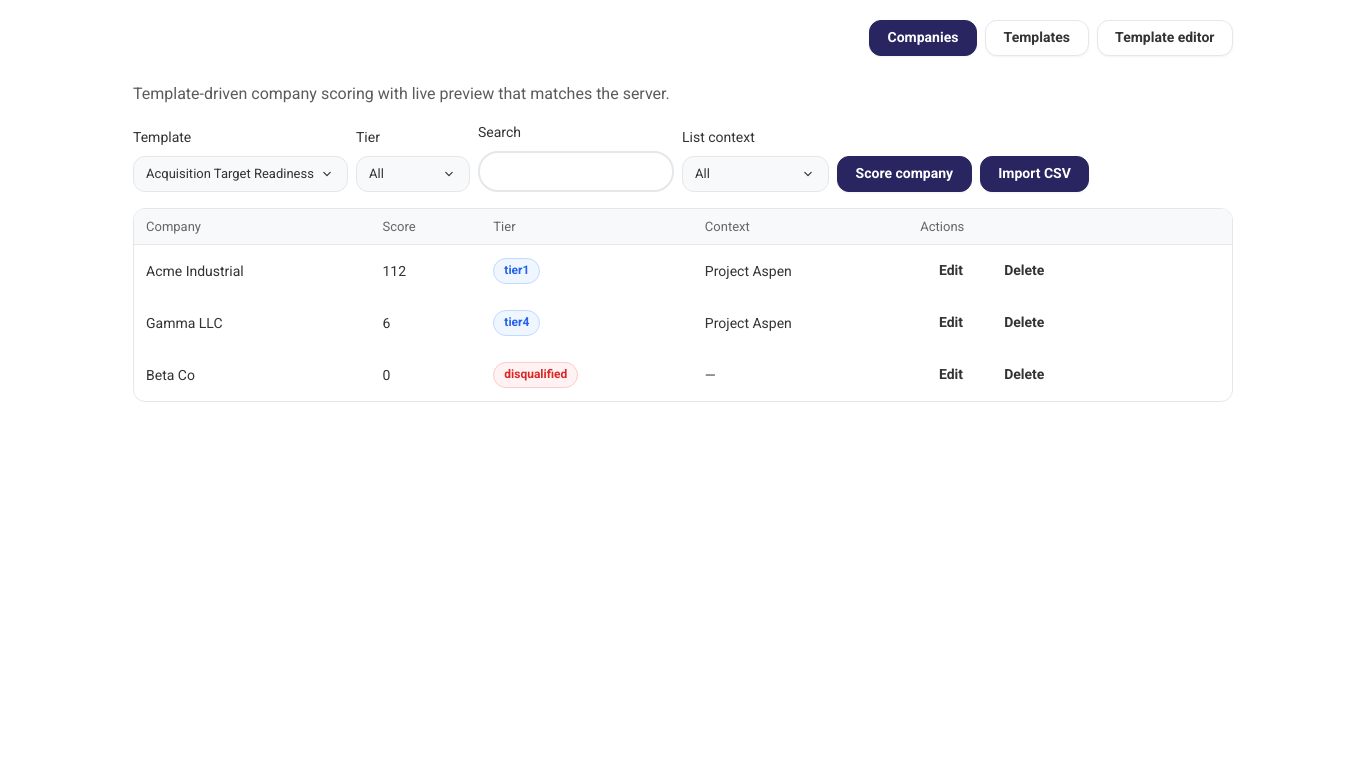
Scenario: BdScoringPage › generates a template draft into the editor
Click the tab with test id "bd-tab-templates" at (1037, 38), box [985, 20, 1088, 56]
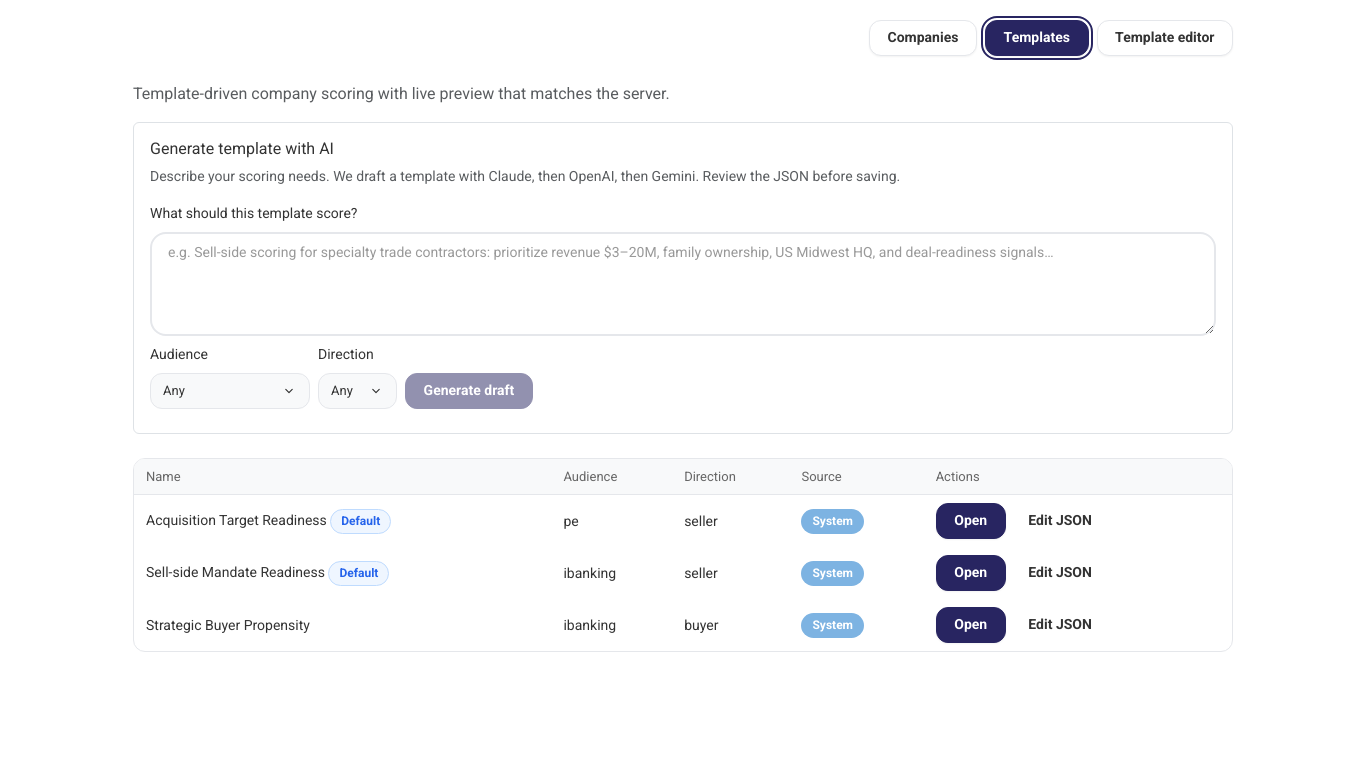
Click the text box with test id "bd-gen-brief" at (683, 284), box [150, 232, 1216, 336]
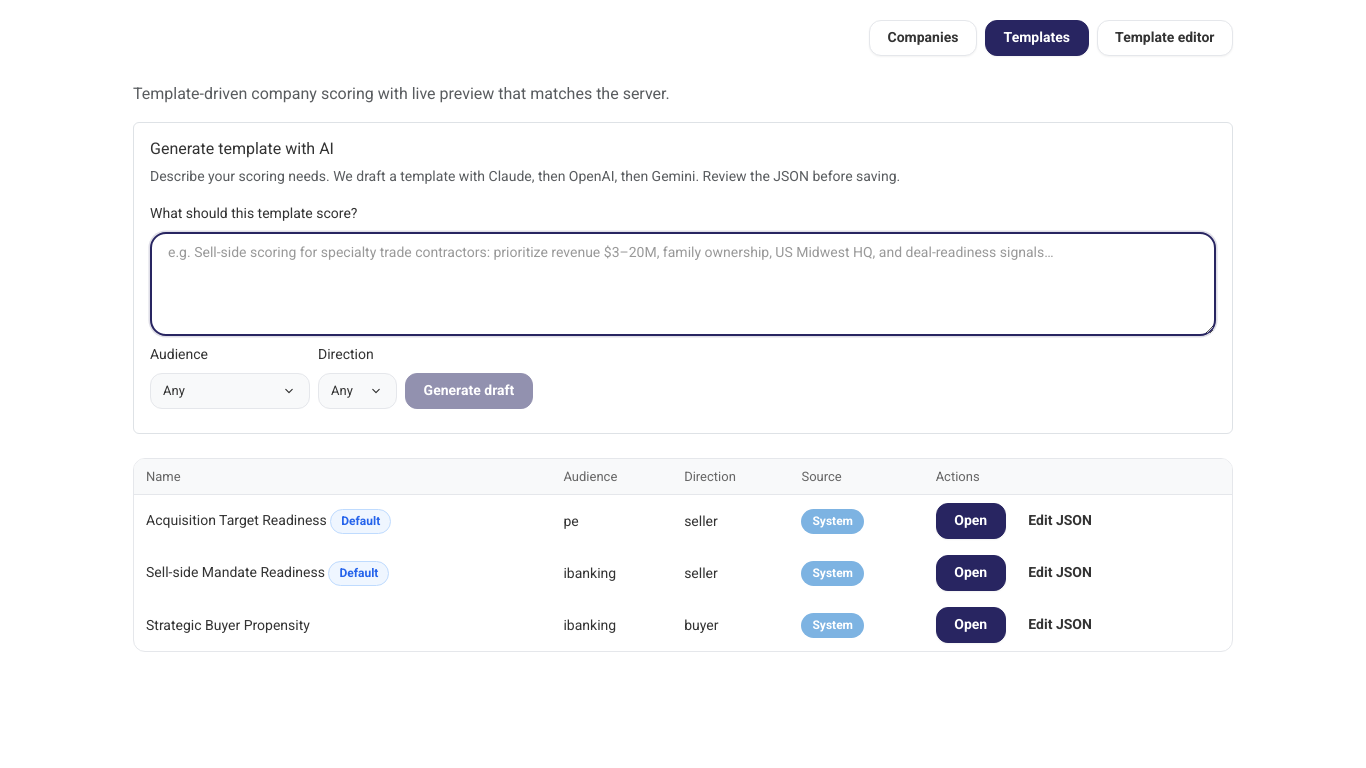
Type keys "Sell-side scoring for HVAC contractors with revenue, ownership, and geography criteria."
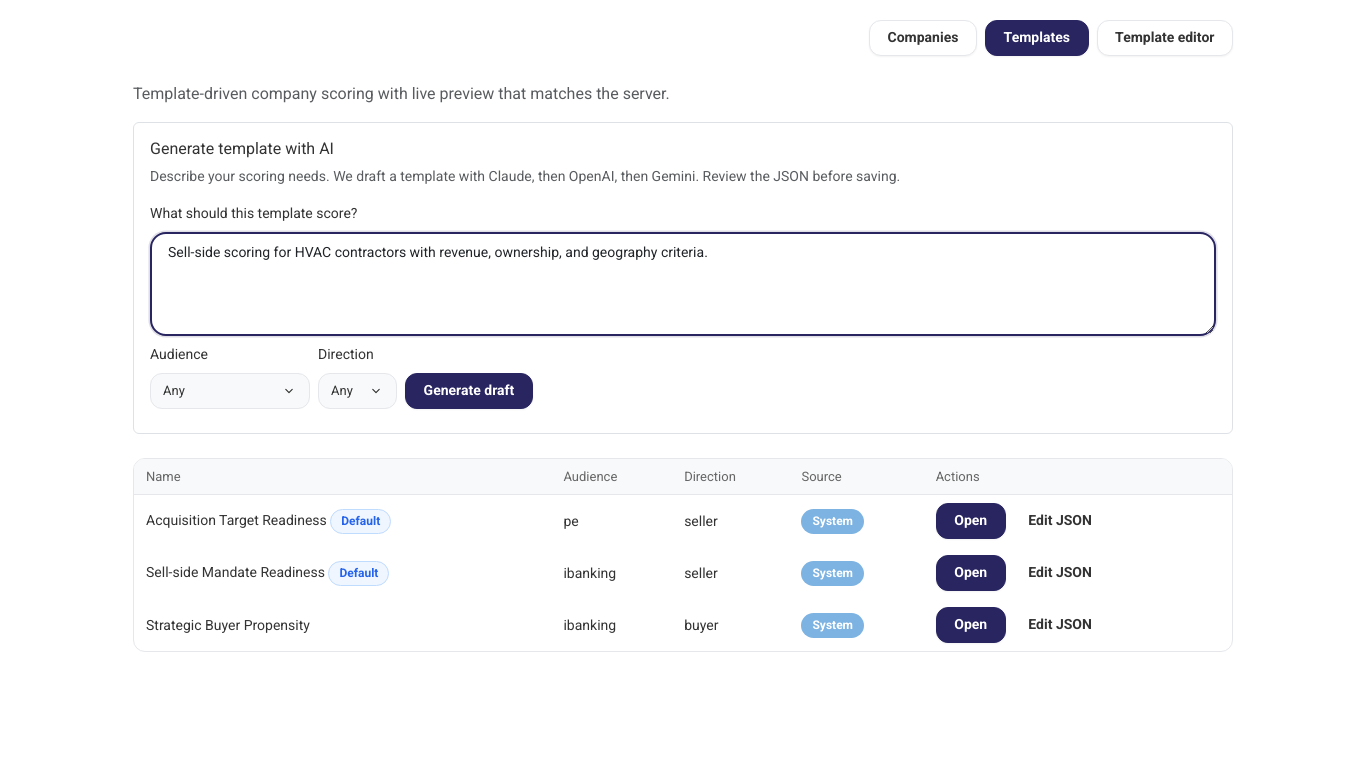
Click the button with test id "bd-gen-submit" at (469, 391), box [405, 373, 533, 409]
(page scrolled)
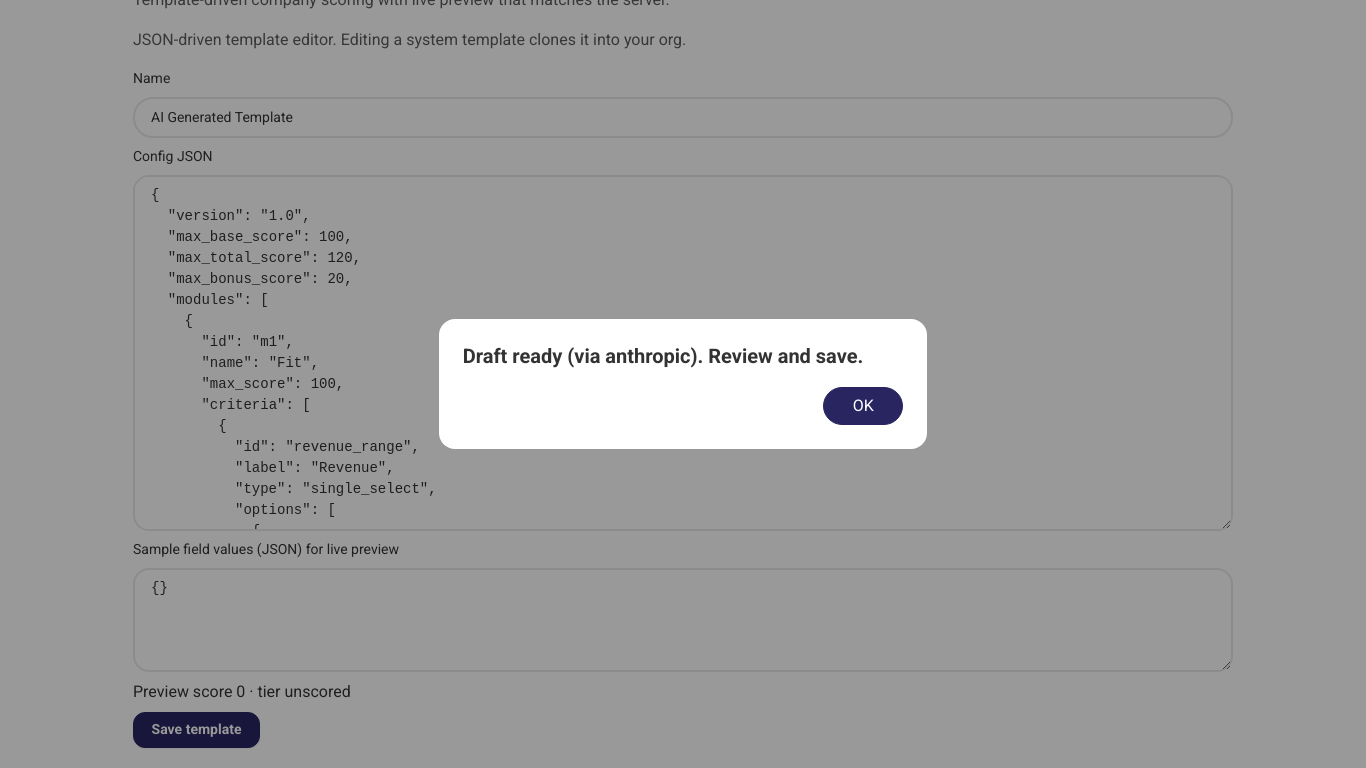
Result: the element with test id "bd-template-editor" is shown
